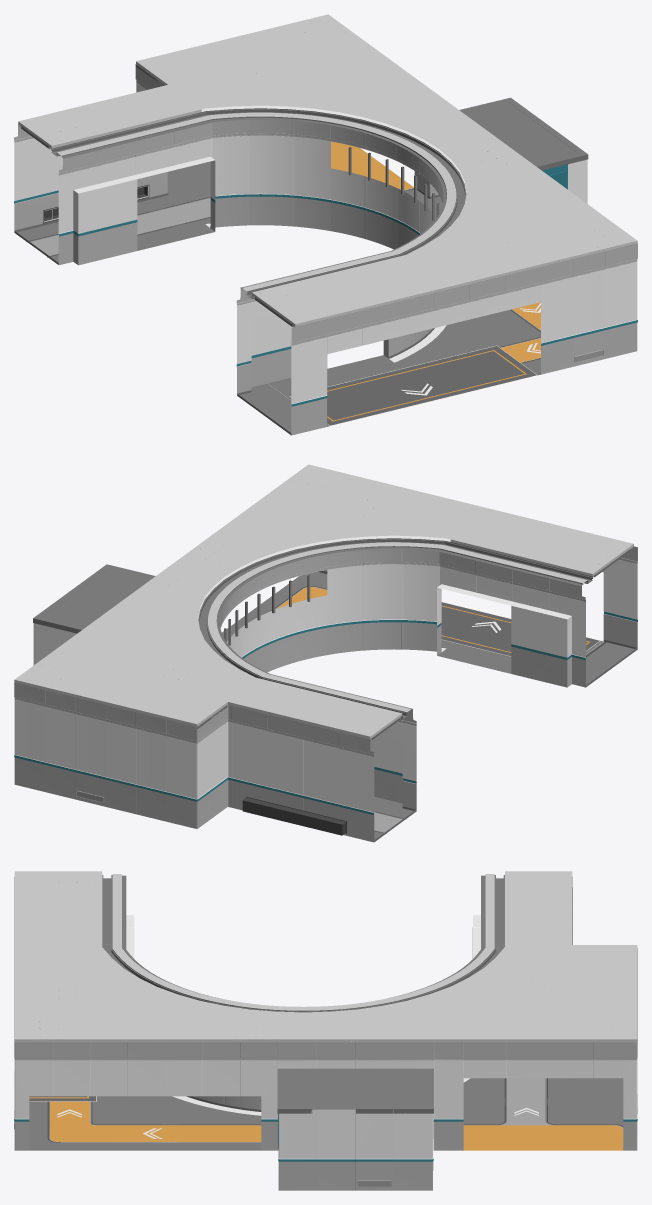
The picture shows the model from 3 angles, top to bottom: view 1: azimuth 30°, elevation 25°; view 2: azimuth 150°, elevation 25°; view 3: azimuth 270°, elevation 25°; orthographic projection. The views are drawn at different scales.
Parts seen in each view (by area): view 1: SM_H_Building_FutureTech_HOrange_01_InterWall_03; view 2: SM_H_Building_FutureTech_HOrange_01_InterWall_03; view 3: SM_H_Building_FutureTech_HOrange_01_InterWall_03.
Boxes of the visible parts, x1,y1,x2,y2 form: SM_H_Building_FutureTech_HOrange_01_InterWall_03: (14, 14, 637, 435); SM_H_Building_FutureTech_HOrange_01_InterWall_03: (14, 464, 637, 842); SM_H_Building_FutureTech_HOrange_01_InterWall_03: (14, 871, 637, 1190).
Bounding box in the file's own units: 1444 × 1153 × 284.
